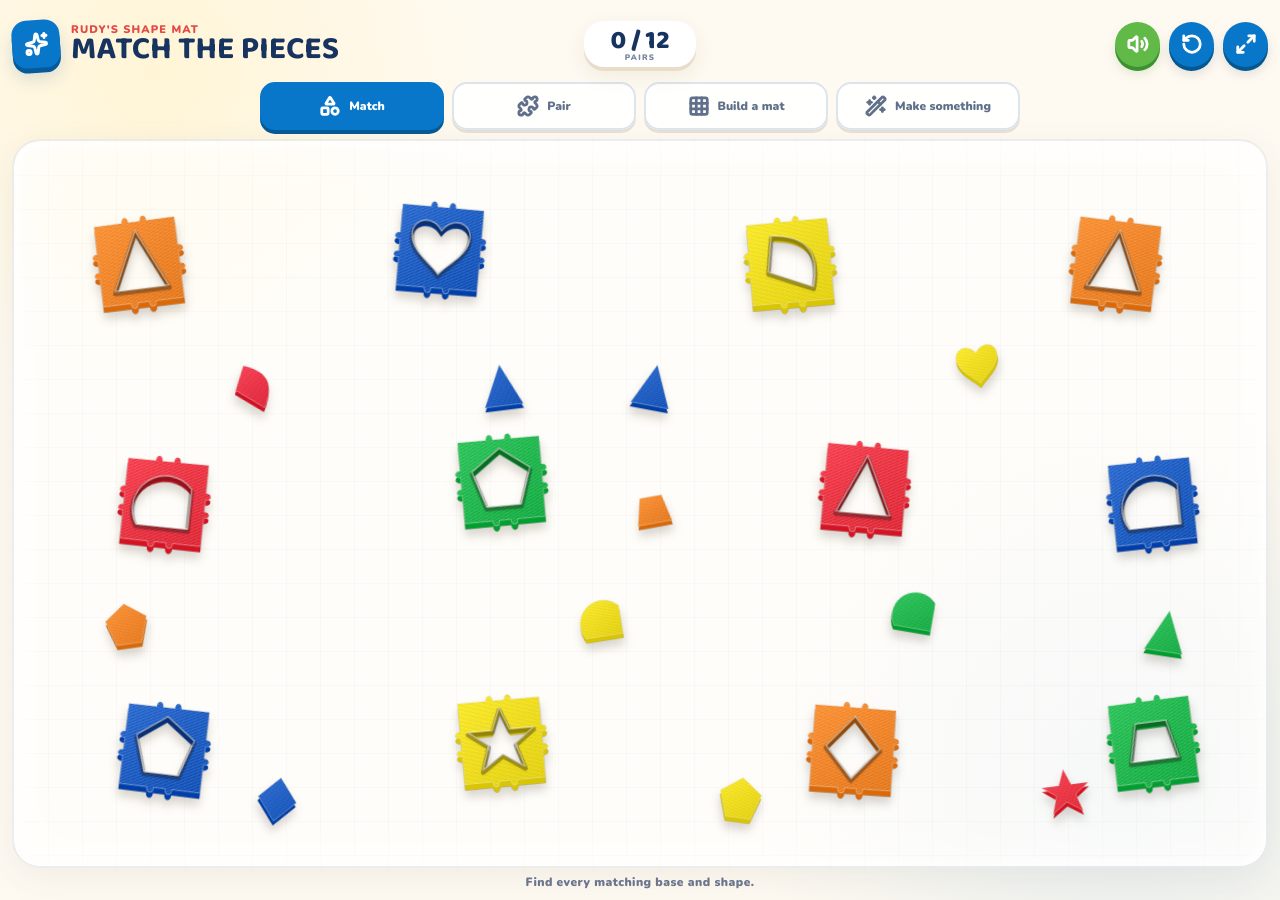
activity navigation › opens Make Something and starts the selected House wireframe
Click the button "Make something": {"x": 928, "y": 106} x1=836 y1=82 x2=1020 y2=130
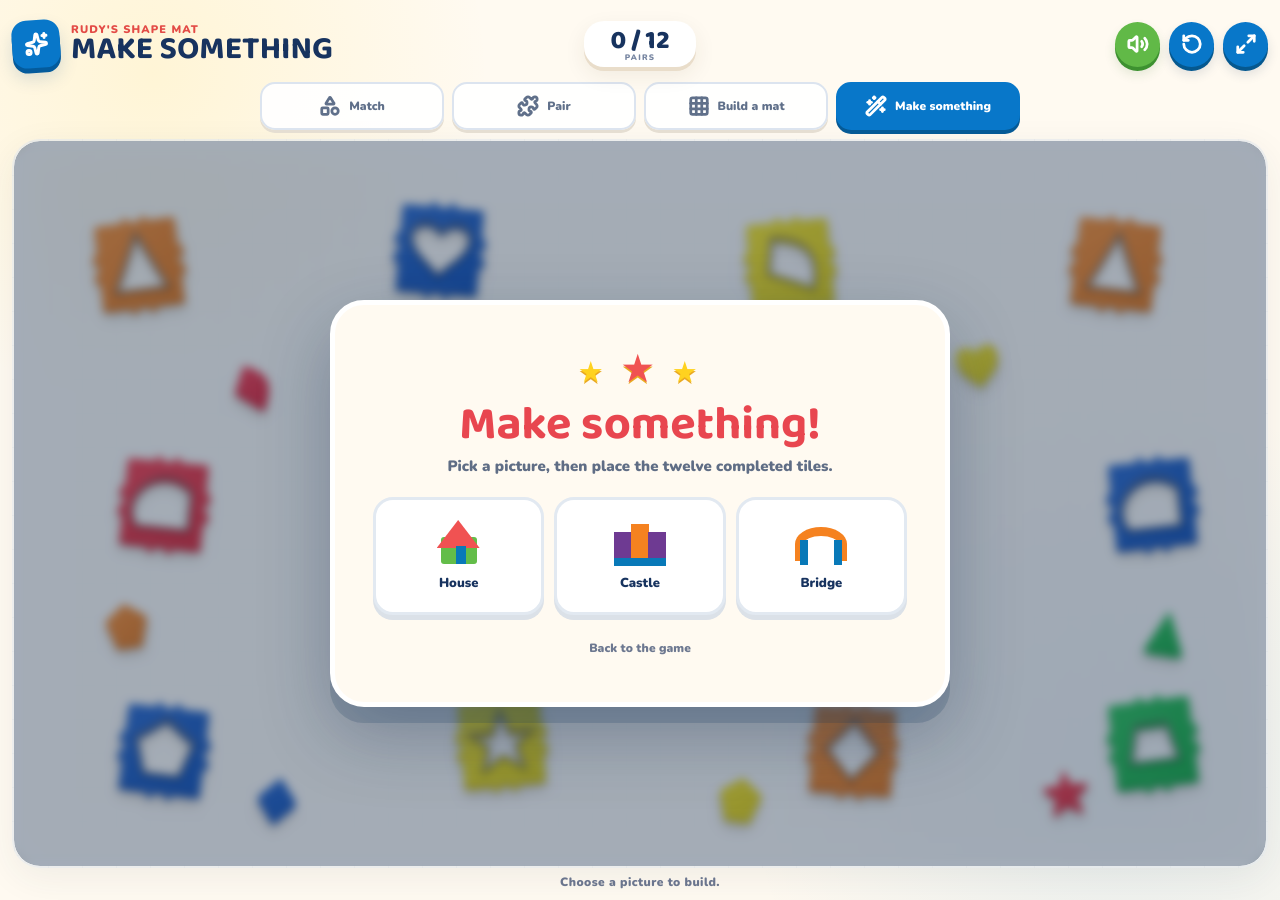
Now the heading "Make something" is shown, box x1=71 y1=34 x2=333 y2=66
Click the button "House": {"x": 459, "y": 556} x1=373 y1=497 x2=544 y2=615
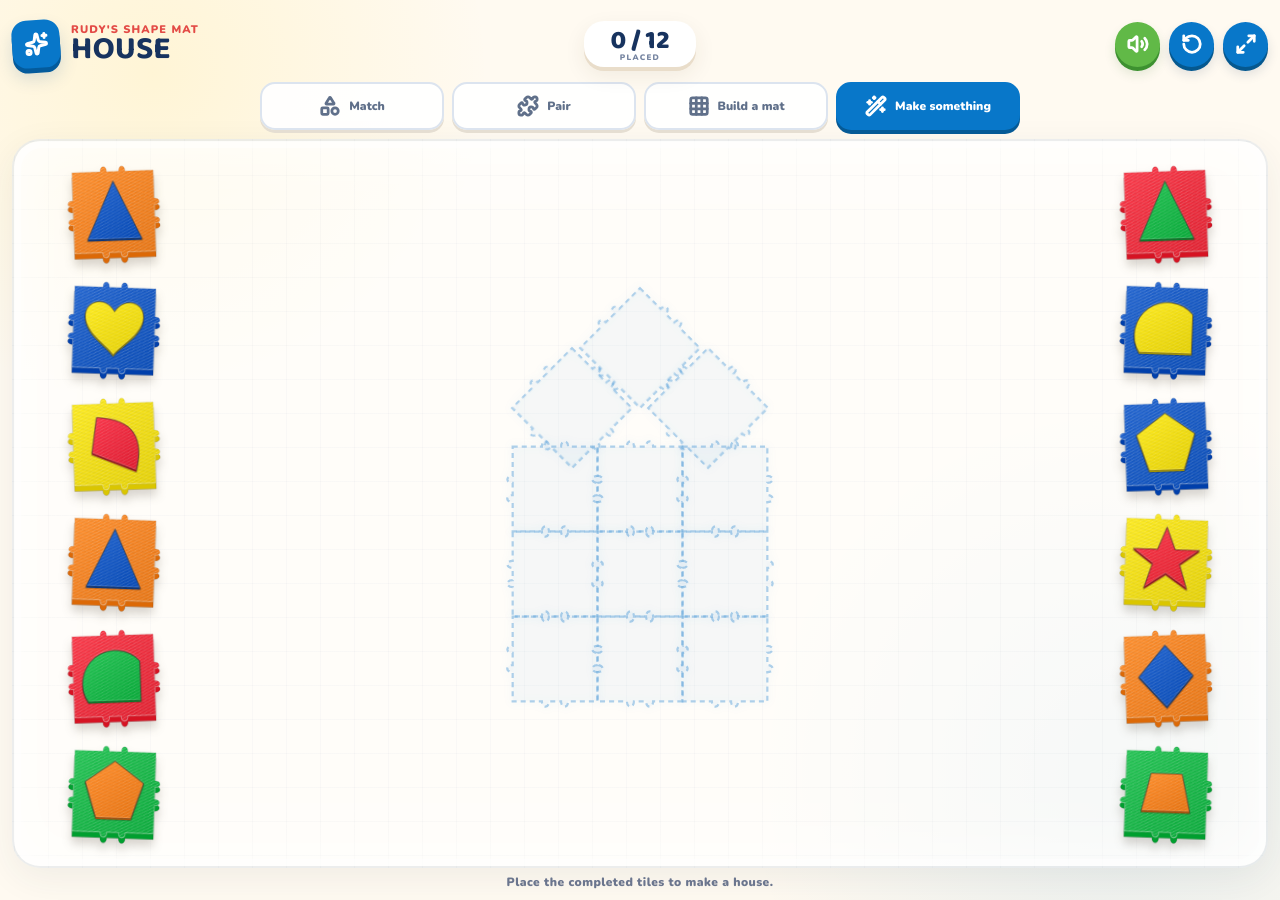
Now the heading "House" is shown, box x1=71 y1=24 x2=171 y2=75
Now the number of buttons named "Completed" is 12
Now the element with class "house" is shown, box x1=500 y1=277 x2=779 y2=709
